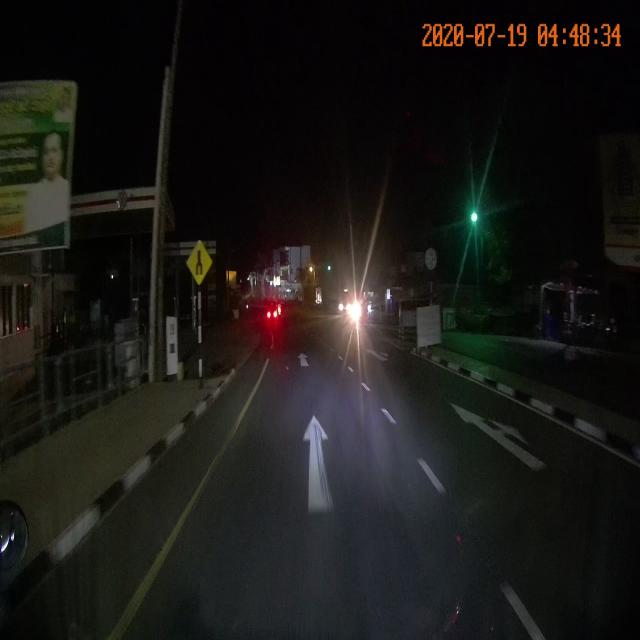forward: (174, 402, 461, 520)
